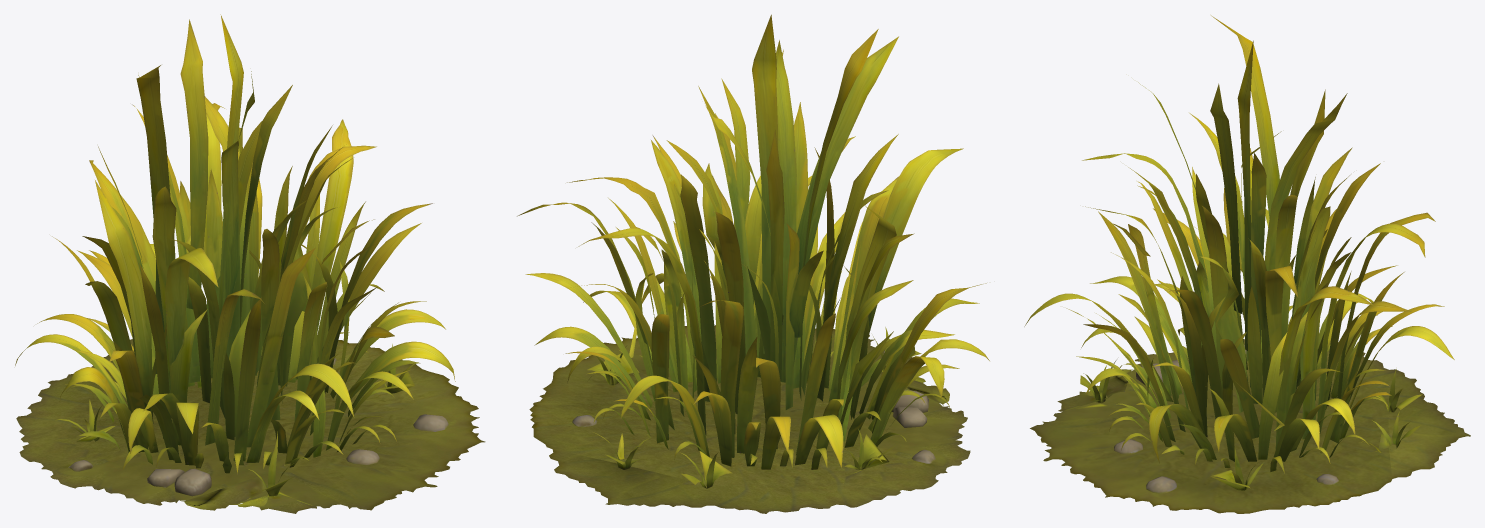
Rendered from grass_clump.glb.
3 renders of one model, left to right at view 1: azimuth 30°, elevation 25°; view 2: azimuth 150°, elevation 25°; view 3: azimuth 270°, elevation 25°, orthographic. The views are drawn at different scales.
Parts seen in each view (by area): view 1: tripo_node_a12390b9-c6cd-4a83-8777-2e4744545939; view 2: tripo_node_a12390b9-c6cd-4a83-8777-2e4744545939; view 3: tripo_node_a12390b9-c6cd-4a83-8777-2e4744545939.
Boxes of the visible parts, bbox=[...] form: tripo_node_a12390b9-c6cd-4a83-8777-2e4744545939: bbox=[15, 14, 485, 513]; tripo_node_a12390b9-c6cd-4a83-8777-2e4744545939: bbox=[517, 14, 989, 513]; tripo_node_a12390b9-c6cd-4a83-8777-2e4744545939: bbox=[1024, 15, 1470, 513].
Bounding box in the file's own units: 0.9409 × 0.9292 × 0.9995.
Materials: 1 (1 with a texture image).
